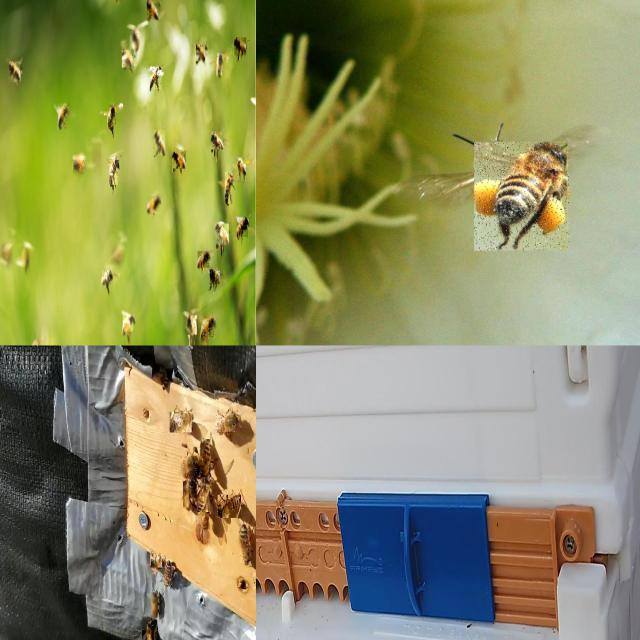honeybee: (475, 146, 568, 252), (215, 410, 240, 436), (129, 28, 145, 62), (239, 525, 252, 566), (218, 496, 239, 520), (182, 453, 200, 481), (224, 173, 236, 210), (123, 46, 136, 80), (170, 413, 192, 433), (197, 481, 211, 512), (8, 59, 24, 86), (200, 446, 212, 482), (184, 484, 196, 516), (58, 102, 70, 133), (108, 155, 120, 186), (106, 108, 120, 134), (149, 66, 161, 95), (211, 131, 224, 157), (146, 188, 159, 214), (235, 157, 248, 182), (154, 130, 164, 160), (145, 0, 157, 23), (123, 313, 135, 336), (173, 150, 188, 168), (151, 590, 160, 620), (101, 266, 113, 288), (186, 317, 198, 338), (143, 619, 155, 640), (234, 34, 245, 56), (217, 223, 229, 243), (208, 270, 221, 288), (202, 319, 214, 338), (238, 216, 247, 241), (74, 155, 86, 173), (164, 560, 171, 588), (196, 43, 204, 65), (216, 53, 223, 76), (199, 252, 209, 267)
